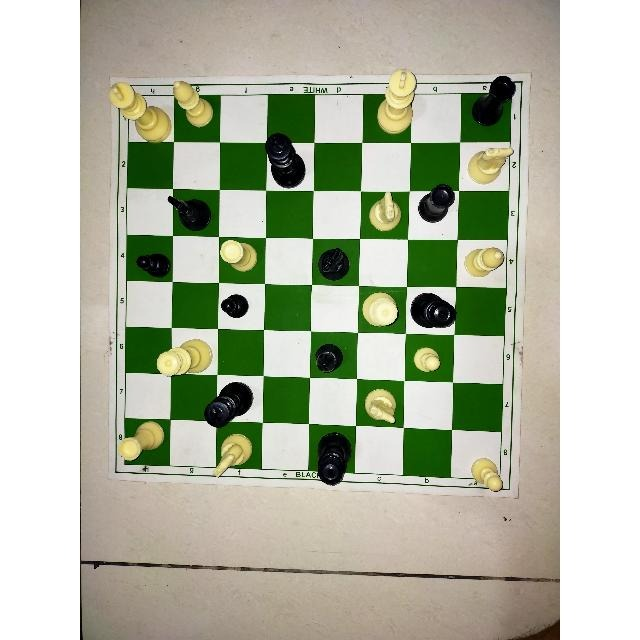black-bishop: (310, 338, 349, 374)
black-king: (261, 134, 309, 191), (202, 379, 256, 429)
black-knight: (161, 184, 214, 234), (312, 241, 354, 282)
black-pawn: (131, 249, 176, 283), (217, 292, 253, 321)
black-queen: (311, 425, 355, 486), (409, 287, 461, 335)
black-rook: (468, 73, 520, 129), (415, 181, 457, 227)
white-bishop: (168, 77, 216, 129), (460, 240, 510, 280)
white-king: (107, 80, 173, 145), (373, 62, 417, 137)
white-knight: (462, 139, 517, 186), (207, 430, 254, 483), (364, 192, 406, 236), (362, 381, 398, 429)
white-pawn: (467, 449, 507, 497), (407, 342, 447, 377)
white-queen: (154, 333, 214, 380), (360, 288, 399, 332)
white-rook: (116, 417, 166, 469), (216, 237, 263, 275)
